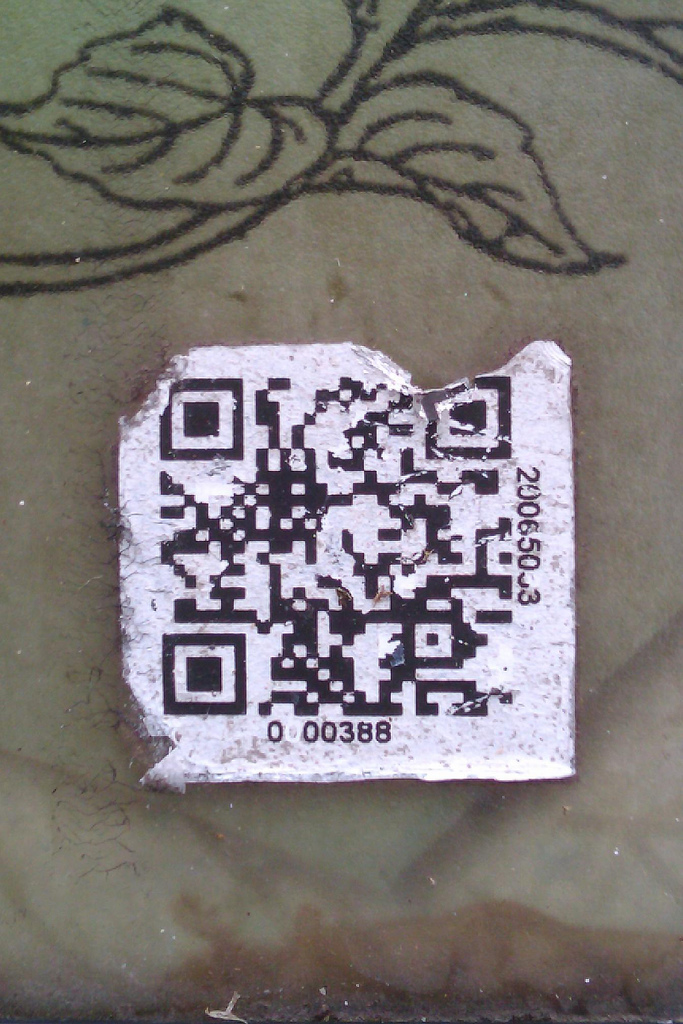QR-CODE: (159, 377, 511, 717)
